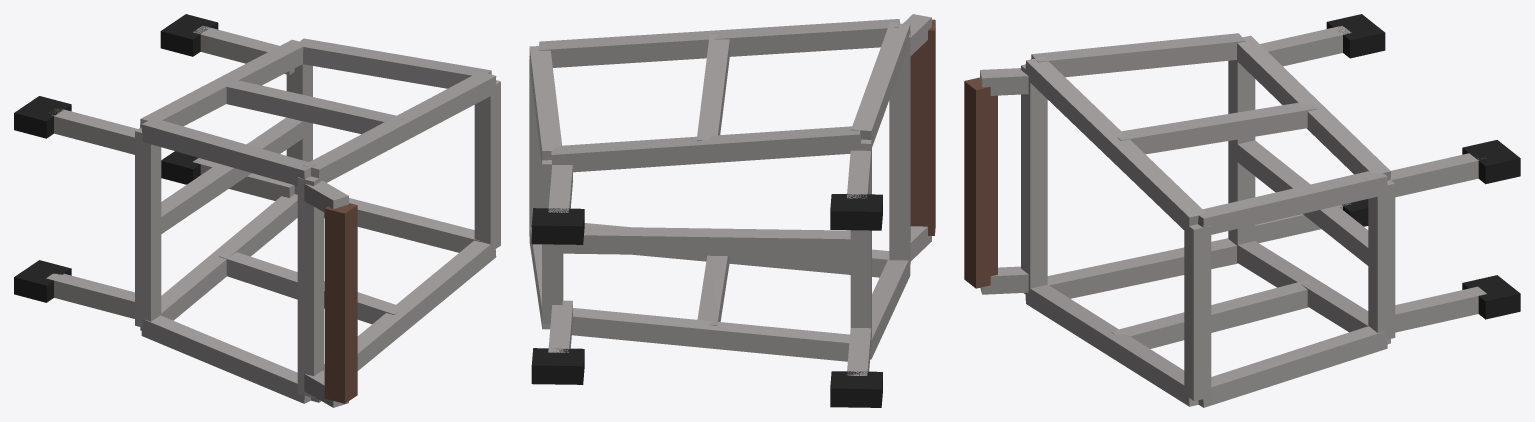
File: junk_shopping_cart.obj
3 views of the same model, side by side, from view 1: azimuth 30°, elevation 25°; view 2: azimuth 150°, elevation 25°; view 3: azimuth 270°, elevation 25° (orthographic). The views are drawn at different scales.
Visible parts, largest first — view 1: junk_shopping_cart_15, junk_shopping_cart_7, junk_shopping_cart_10, junk_shopping_cart_9, junk_shopping_cart_1, junk_shopping_cart_11, junk_shopping_cart_2, junk_shopping_cart_8, junk_shopping_cart_0, junk_shopping_cart_13, junk_shopping_cart_4, junk_shopping_cart_6 (+14 smaller); view 2: junk_shopping_cart_7, junk_shopping_cart_6, junk_shopping_cart_0, junk_shopping_cart_14, junk_shopping_cart_15, junk_shopping_cart_10, junk_shopping_cart_11, junk_shopping_cart_8, junk_shopping_cart_9, junk_shopping_cart_1, junk_shopping_cart_13, junk_shopping_cart_2 (+14 smaller); view 3: junk_shopping_cart_15, junk_shopping_cart_7, junk_shopping_cart_10, junk_shopping_cart_1, junk_shopping_cart_11, junk_shopping_cart_5, junk_shopping_cart_8, junk_shopping_cart_6, junk_shopping_cart_13, junk_shopping_cart_4, junk_shopping_cart_2, junk_shopping_cart_12 (+13 smaller).
Boxes of the visible parts, <box> form: junk_shopping_cart_15: <box>324,203,357,403</box>; junk_shopping_cart_7: <box>303,71,496,182</box>; junk_shopping_cart_10: <box>297,176,323,397</box>; junk_shopping_cart_9: <box>135,128,161,327</box>; junk_shopping_cart_1: <box>311,240,496,402</box>; junk_shopping_cart_11: <box>141,118,316,185</box>; junk_shopping_cart_2: <box>141,315,310,403</box>; junk_shopping_cart_8: <box>300,38,491,88</box>; junk_shopping_cart_0: <box>140,194,297,330</box>; junk_shopping_cart_13: <box>224,78,403,134</box>; junk_shopping_cart_4: <box>474,80,500,251</box>; junk_shopping_cart_6: <box>140,39,305,127</box>; junk_shopping_cart_7: <box>538,19,899,67</box>; junk_shopping_cart_6: <box>551,126,861,172</box>; junk_shopping_cart_0: <box>572,308,849,361</box>; junk_shopping_cart_14: <box>562,226,850,257</box>; junk_shopping_cart_15: <box>910,19,935,235</box>; junk_shopping_cart_10: <box>889,28,910,270</box>; junk_shopping_cart_11: <box>851,22,910,147</box>; junk_shopping_cart_8: <box>529,46,562,164</box>; junk_shopping_cart_9: <box>850,139,871,353</box>; junk_shopping_cart_1: <box>584,223,892,277</box>; junk_shopping_cart_13: <box>696,34,729,140</box>; junk_shopping_cart_2: <box>870,260,910,359</box>; junk_shopping_cart_15: <box>964,77,997,288</box>; junk_shopping_cart_7: <box>1025,56,1206,229</box>; junk_shopping_cart_10: <box>1021,64,1047,294</box>; junk_shopping_cart_1: <box>1025,284,1198,406</box>; junk_shopping_cart_11: <box>1031,33,1245,77</box>; junk_shopping_cart_5: <box>1198,326,1387,407</box>; junk_shopping_cart_8: <box>1198,171,1387,234</box>; junk_shopping_cart_6: <box>1237,35,1390,180</box>; junk_shopping_cart_13: <box>1117,102,1316,154</box>; junk_shopping_cart_4: <box>1184,222,1211,400</box>; junk_shopping_cart_2: <box>1047,238,1237,298</box>; junk_shopping_cart_12: <box>1111,280,1310,348</box>.
Bounding box in the file's own units: 0.8264 × 0.4538 × 0.9392.
